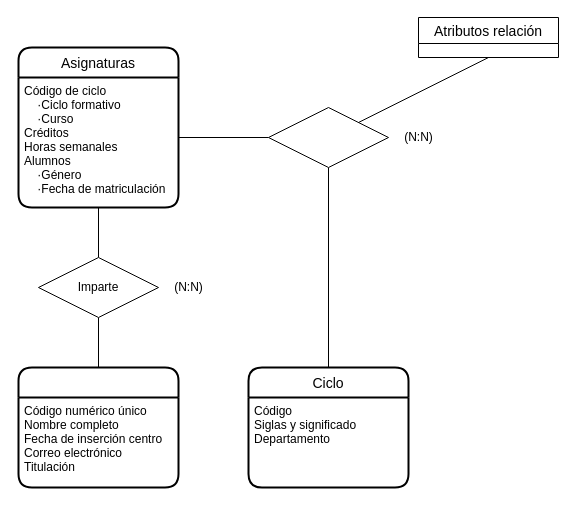
This 576x506 diagram has some shape labels left out. Each missing label, with the box of its shape:
Dar a distancia: (268, 106, 388, 168)
Profesor: (17, 366, 179, 488)
